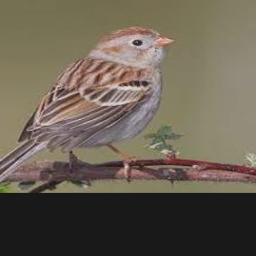Sparrow: (0, 26, 175, 189)
